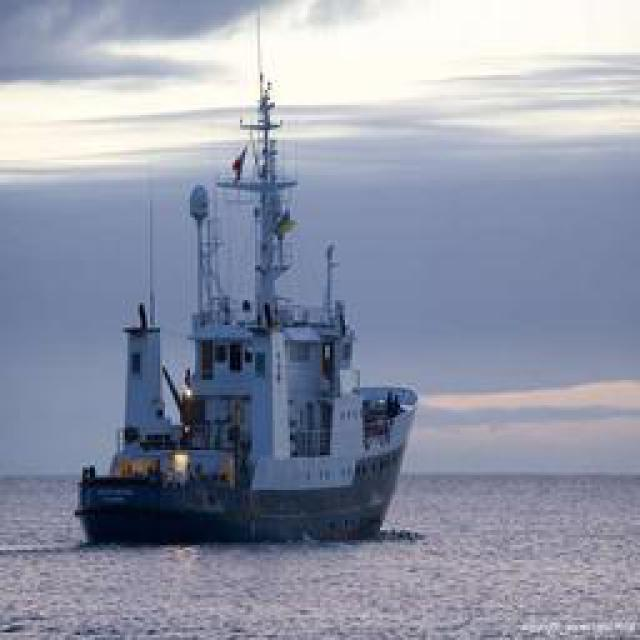Ship: (50, 20, 418, 558)
